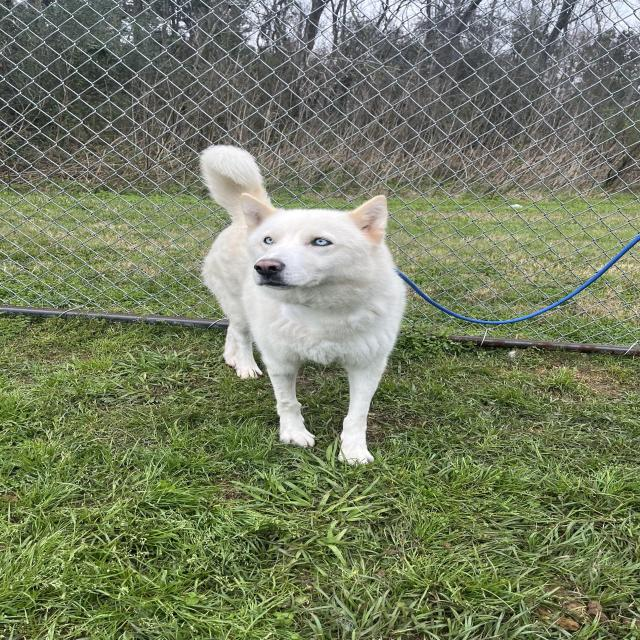siberian_husky_dog: (231, 188, 403, 328)
